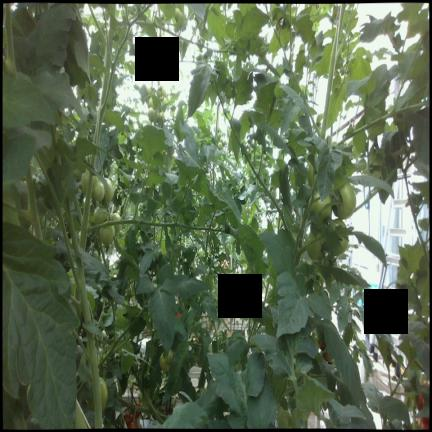6kp_petiole: (4, 184, 42, 237), (79, 201, 104, 248), (94, 18, 115, 67), (96, 78, 112, 129), (329, 36, 343, 73)
MainStem: (319, 3, 346, 140), (87, 331, 102, 428), (25, 167, 43, 241), (94, 73, 109, 146), (76, 258, 92, 323), (80, 172, 93, 251)
tomato: (338, 182, 356, 218), (332, 218, 348, 255), (311, 192, 331, 221), (307, 233, 324, 260), (99, 226, 115, 246), (92, 181, 104, 202), (110, 213, 122, 232), (94, 206, 107, 223), (105, 178, 114, 202), (81, 170, 89, 194), (94, 250, 98, 258)
